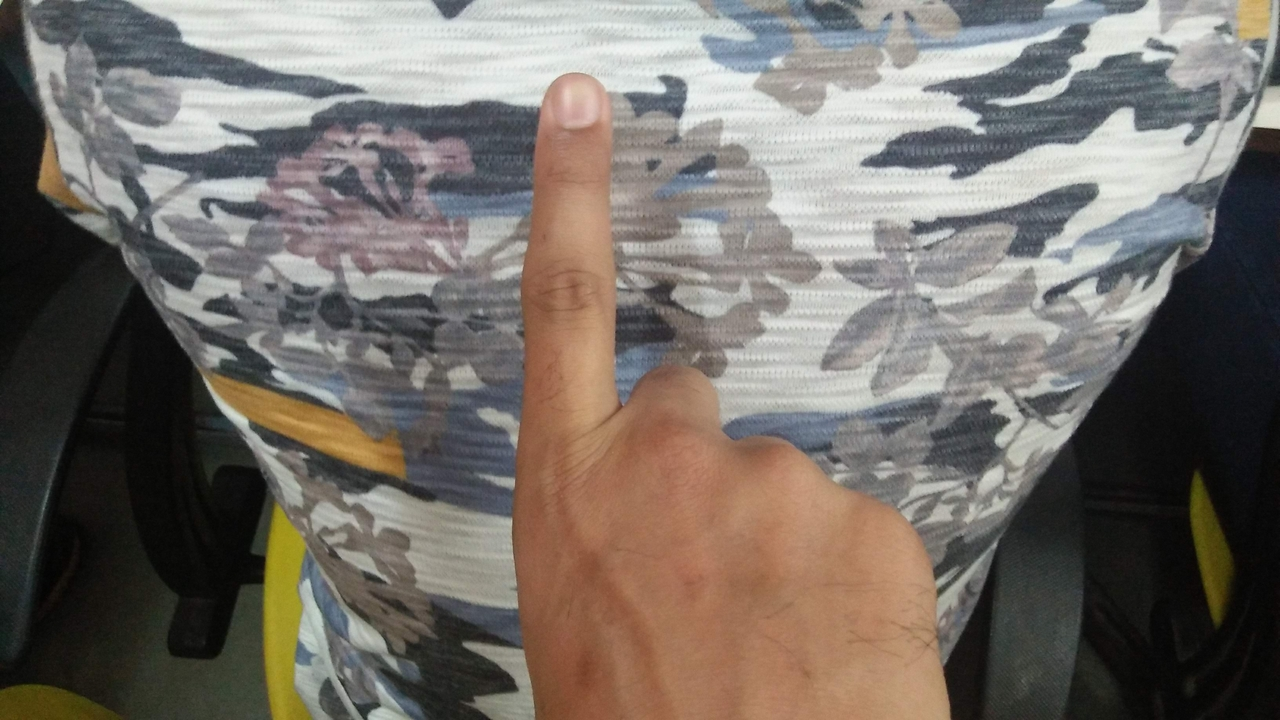fingertip: (532, 72, 610, 136)
